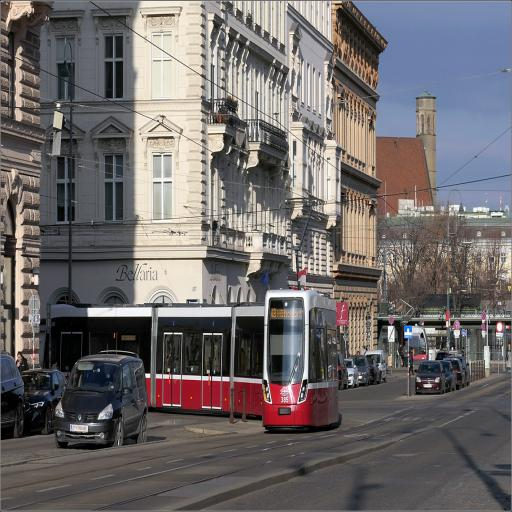Flexity: (43, 289, 342, 426)
